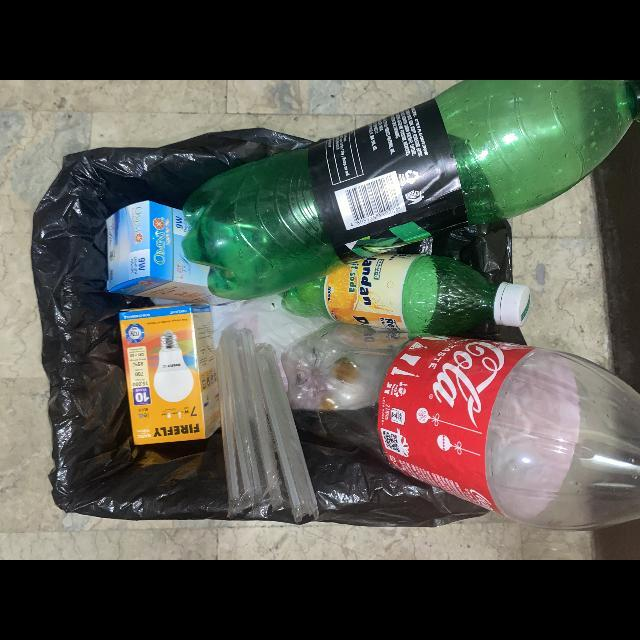paper: (119, 305, 221, 446), (106, 200, 240, 306)
plastic: (181, 80, 640, 301), (280, 322, 640, 531), (282, 255, 530, 337)
